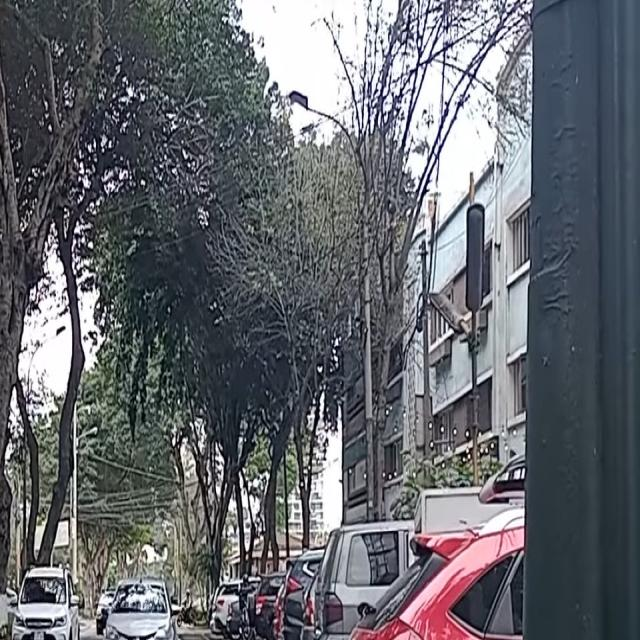car: (11, 566, 79, 640), (101, 576, 176, 640)
